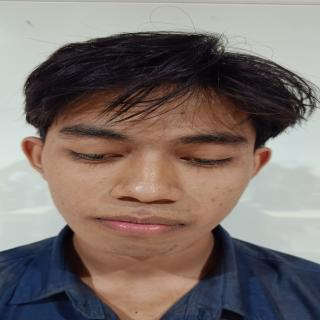Sedih: (34, 80, 259, 265)
